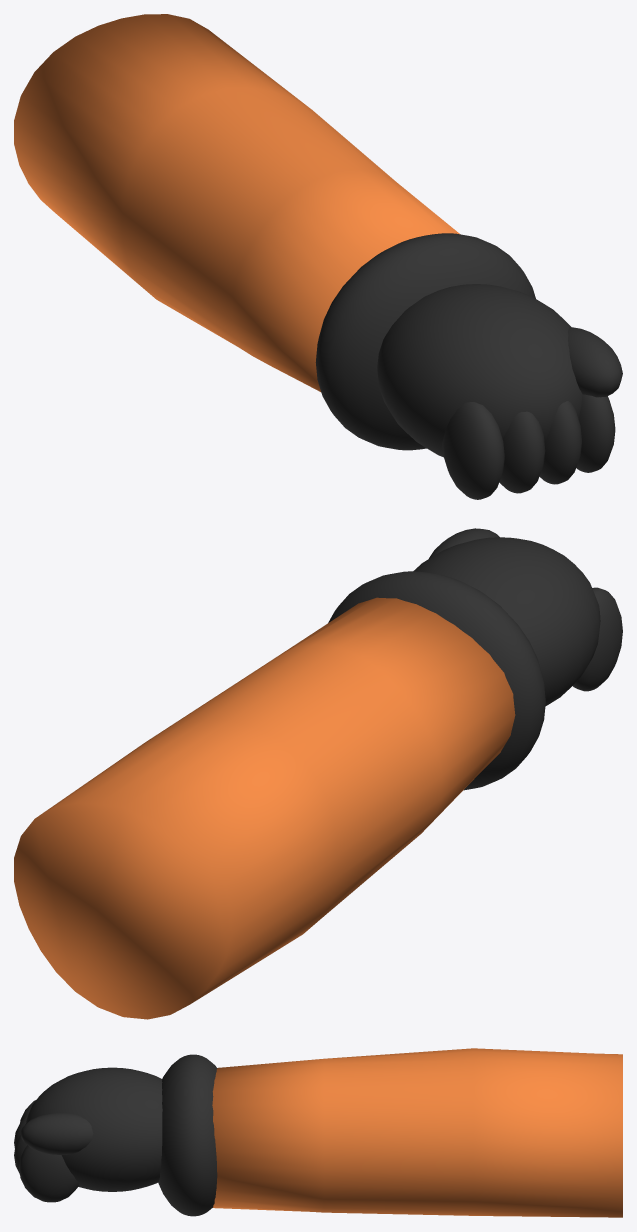
The model's file is fp_orange.glb.
3 views of the same model, one above another, from view 1: azimuth 30°, elevation 25°; view 2: azimuth 150°, elevation 25°; view 3: azimuth 270°, elevation 25° (orthographic). The views are drawn at different scales.
Visible parts, largest first — view 1: sleeve, palm, cuff, finger0, finger1, thumb, finger2, finger3; view 2: sleeve, palm, cuff, finger0, thumb; view 3: sleeve, palm, cuff, thumb, finger3.
Boxes of the visible parts, x1,y1,x2,y2 form: sleeve: (14, 14, 459, 391); palm: (377, 284, 582, 457); cuff: (315, 233, 535, 450); finger0: (442, 402, 504, 499); finger1: (499, 411, 545, 493); thumb: (568, 327, 622, 397); finger2: (539, 401, 581, 484); finger3: (576, 394, 615, 472); sleeve: (14, 597, 515, 1019); palm: (413, 537, 600, 706); cuff: (328, 571, 545, 790); finger0: (573, 587, 622, 691); thumb: (429, 528, 499, 558); sleeve: (212, 1048, 622, 1217); palm: (26, 1067, 162, 1191); cuff: (158, 1054, 217, 1216); thumb: (20, 1112, 93, 1154); finger3: (19, 1145, 78, 1202).
Bounding box in the file's own units: 0.1449 × 0.1336 × 0.489.
